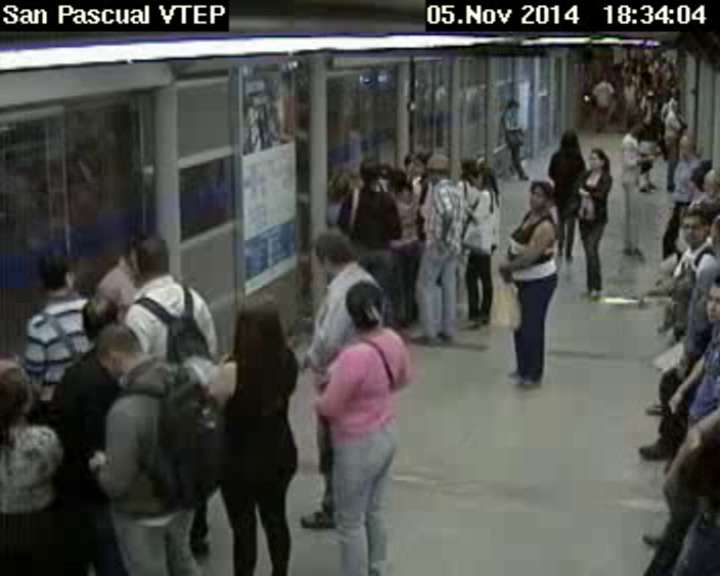person: (225, 283, 289, 360), (84, 321, 154, 378), (1, 359, 43, 424), (345, 273, 386, 337), (308, 221, 358, 268), (38, 250, 82, 294), (136, 238, 171, 279), (696, 272, 720, 323), (354, 151, 382, 193), (459, 153, 495, 185), (676, 210, 707, 244), (525, 179, 560, 209), (671, 130, 700, 165), (426, 151, 458, 179), (584, 148, 612, 174), (706, 207, 720, 259), (410, 150, 431, 183), (701, 168, 720, 203), (619, 115, 647, 138), (388, 164, 410, 193), (560, 123, 579, 151), (505, 94, 521, 112), (669, 98, 680, 112)
